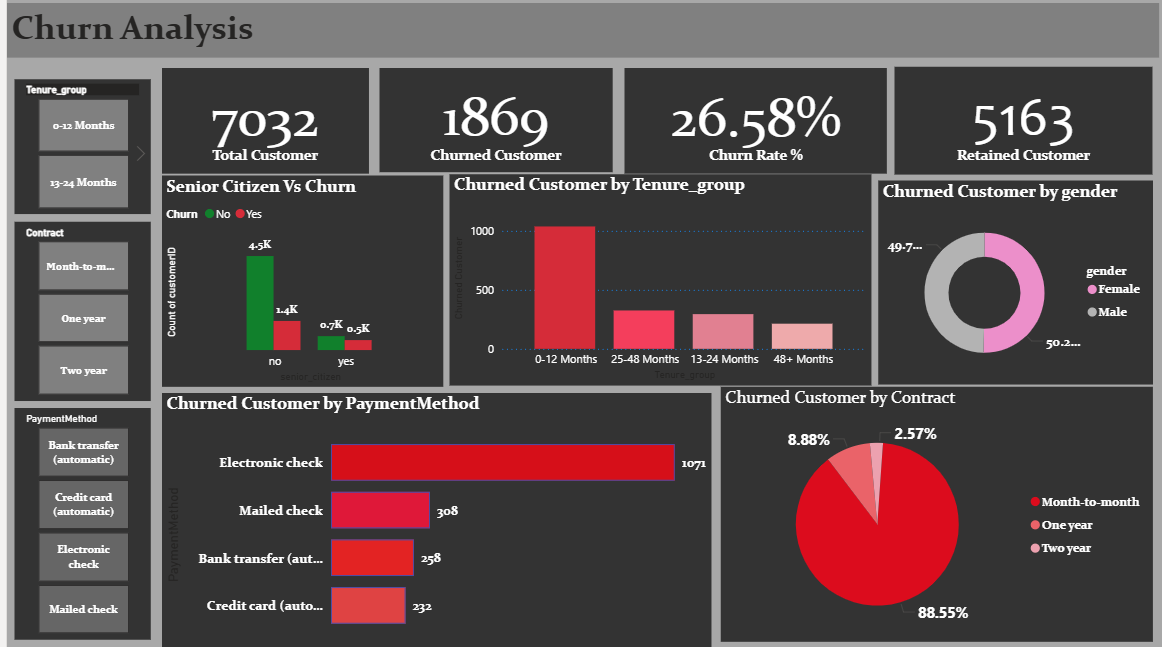

The dashboard page shown, as its layout file describes it:
{"tool":"powerbi","page":{"name":"Churn overview","canvas":[1280,720],"ordinal":0},"visuals":[{"type":"card","fields":{"Values":["Telco-Customer-Churn.Total Customer"]},"box":[170.1,82,226.8,115.8],"z":0},{"type":"card","fields":{"Values":["Telco-Customer-Churn.Retained Customer"]},"box":[974.8,80.8,283.5,118.2],"z":1000},{"type":"card","fields":{"Values":["Telco-Customer-Churn.Churn Rate %"]},"box":[678,82,288.3,115.8],"z":2000},{"type":"card","fields":{"Values":["Telco-Customer-Churn.Churned Customer"]},"box":[409,82,255.8,114.6],"z":3000},{"type":"columnChart","fields":{"Category":["Telco-Customer-Churn.Tenure_group"],"Y":["Telco-Customer-Churn.Churned Customer"]},"box":[486.2,199.1,463.3,231.6],"z":4000},{"type":"clusteredBarChart","fields":{"Category":["Telco-Customer-Churn.PaymentMethod"],"Y":["Telco-Customer-Churn.Churned Customer"]},"box":[170.1,439.1,603.2,281.1],"z":5000},{"type":"pieChart","fields":{"Category":["Telco-Customer-Churn.Contract"],"Y":["Telco-Customer-Churn.Churned Customer"]},"box":[784.2,431.9,474.1,279.9],"z":6000},{"type":"donutChart","fields":{"Category":["Telco-Customer-Churn.gender"],"Y":["Telco-Customer-Churn.Churned Customer"]},"box":[956.7,206.3,301.6,224.4],"z":7000},{"type":"clusteredColumnChart","title":"Senior Citizen Vs  Churn","fields":{"Category":["Telco-Customer-Churn.senior_citizen"],"Series":["Telco-Customer-Churn.Churn"],"Y":["CountNonNull(Telco-Customer-Churn.customerID)"]},"box":[170.1,200.3,308.8,231.6],"z":8000},{"type":"textbox","box":[0,11,1265.2,60.4],"z":9000},{"type":"slicer","fields":{"Values":["Telco-Customer-Churn.Tenure_group"]},"box":[8.4,94.1,149.6,148.4],"z":10000},{"type":"slicer","fields":{"Values":["Telco-Customer-Churn.Contract"]},"box":[8.4,250.9,149.6,196.6],"z":11000},{"type":"slicer","fields":{"Values":["Telco-Customer-Churn.PaymentMethod"]},"box":[8.4,456,149.6,254.6],"z":12000}]}

Visuals, with their boxes in screenshot pixels (x1, y1, x2, y2), scaled from the page's 1280x720 canvas onto the 1162x647 screenshot:
card - Telco-Customer-Churn.Total Customer: box(154, 74, 360, 178)
card - Telco-Customer-Churn.Retained Customer: box(885, 73, 1142, 179)
card - Telco-Customer-Churn.Churn Rate %: box(615, 74, 877, 178)
card - Telco-Customer-Churn.Churned Customer: box(371, 74, 604, 177)
columnChart - Telco-Customer-Churn.Tenure_group x Telco-Customer-Churn.Churned Customer: box(441, 179, 862, 387)
clusteredBarChart - Telco-Customer-Churn.PaymentMethod x Telco-Customer-Churn.Churned Customer: box(154, 395, 702, 646)
pieChart - Telco-Customer-Churn.Contract x Telco-Customer-Churn.Churned Customer: box(712, 388, 1142, 640)
donutChart - Telco-Customer-Churn.gender x Telco-Customer-Churn.Churned Customer: box(869, 185, 1142, 387)
"Senior Citizen Vs  Churn" clusteredColumnChart: box(154, 180, 435, 388)
textbox: box(0, 10, 1149, 64)
slicer - Telco-Customer-Churn.Tenure_group: box(8, 85, 143, 218)
slicer - Telco-Customer-Churn.Contract: box(8, 225, 143, 402)
slicer - Telco-Customer-Churn.PaymentMethod: box(8, 410, 143, 639)
